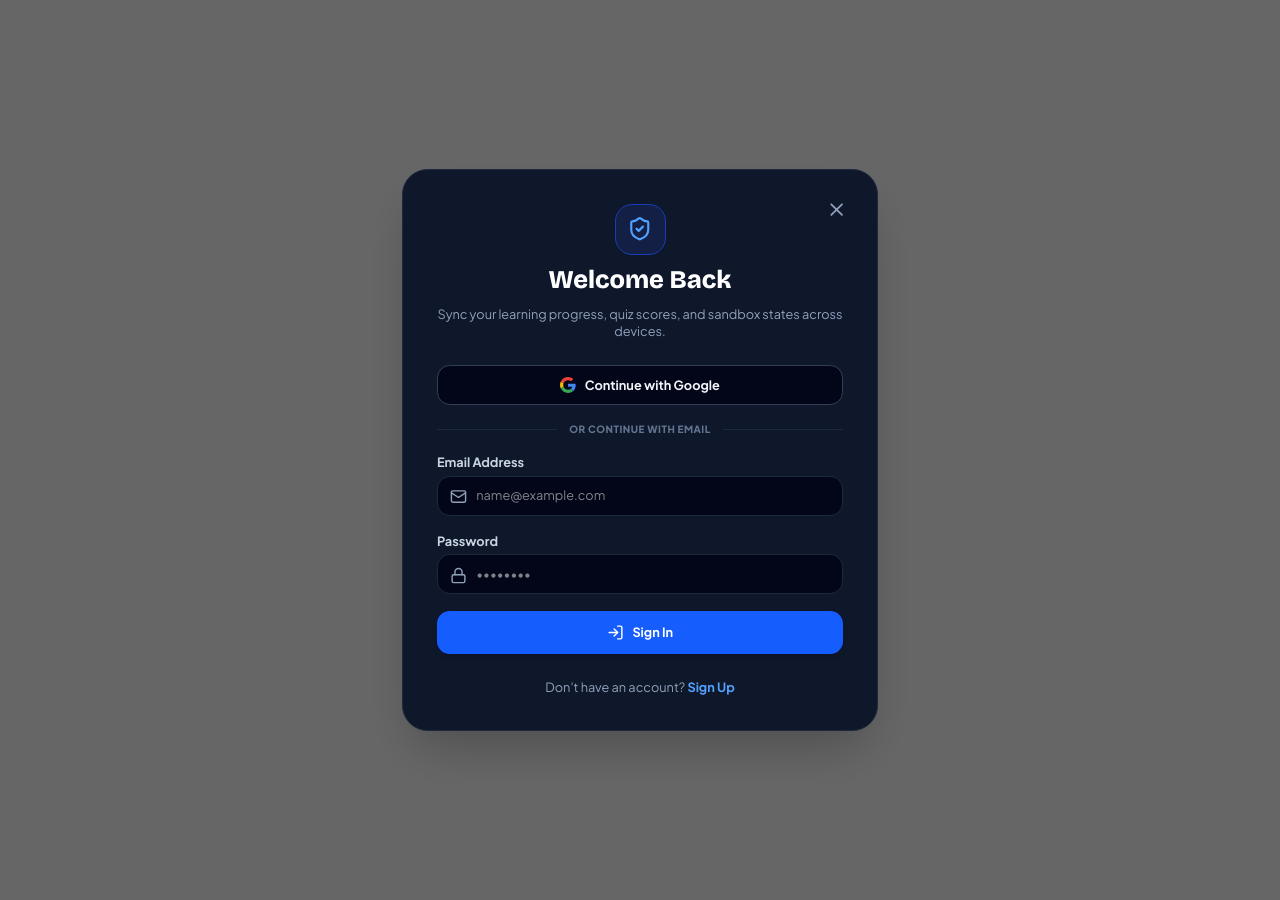
Test: AuthModal › toggles to signup mode
Click the button "Sign Up" at (711, 688), box [687, 679, 735, 696]
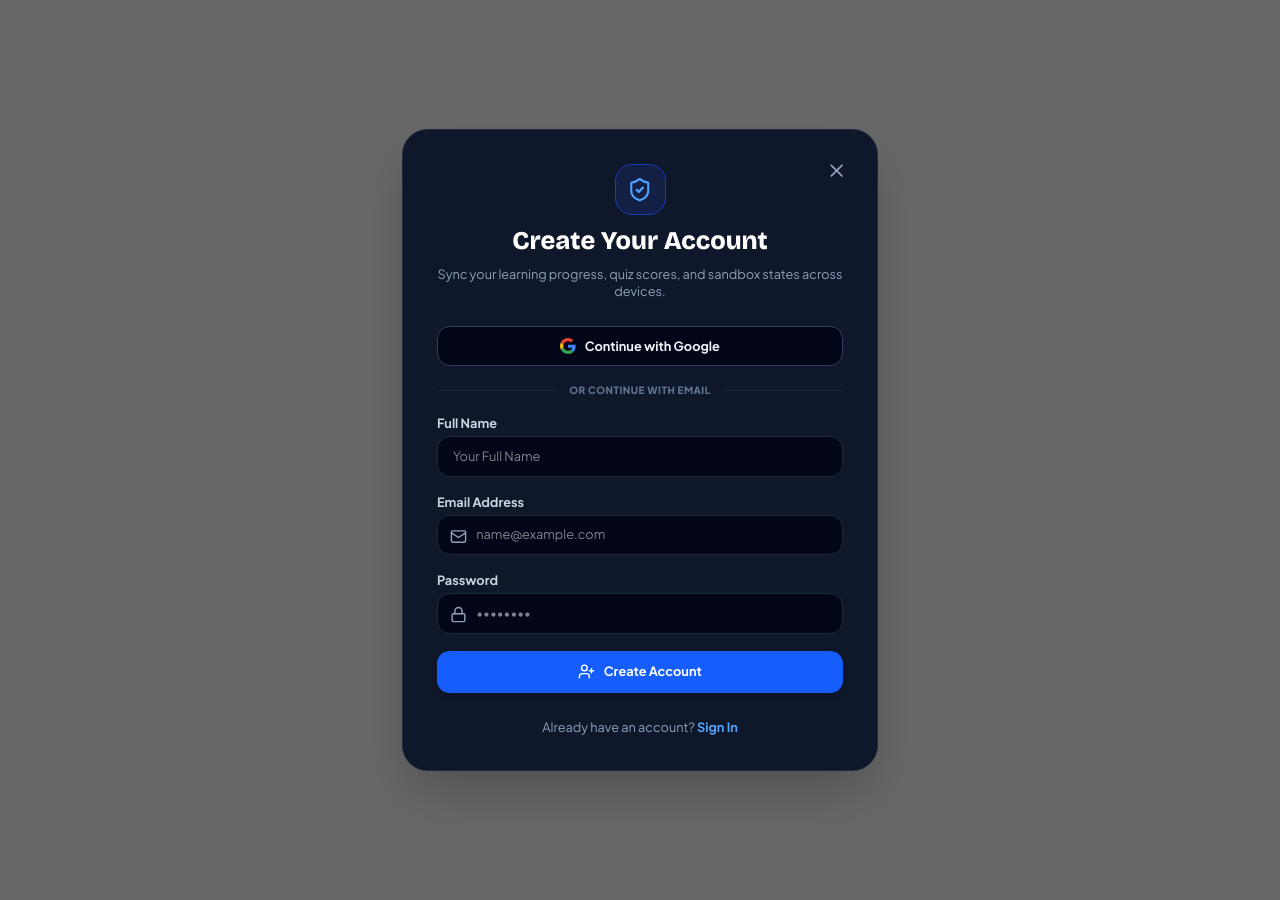
Expected: the heading "Create Your Account" is shown, [512, 225, 768, 256]
Expected: the button "Create Account" is shown, [437, 650, 843, 693]
